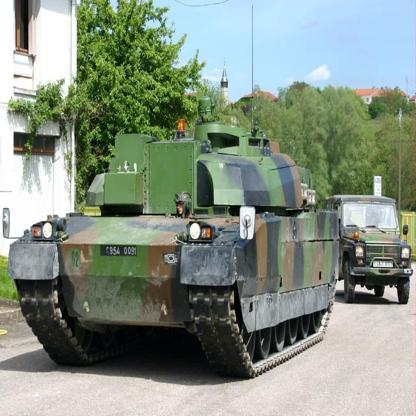Tank: (6, 108, 345, 383)
